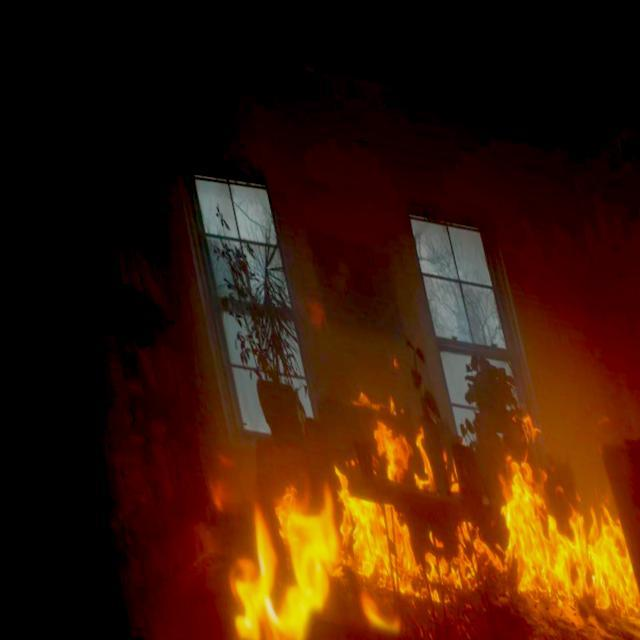Fire: (297, 366, 622, 616), (182, 474, 341, 639)
